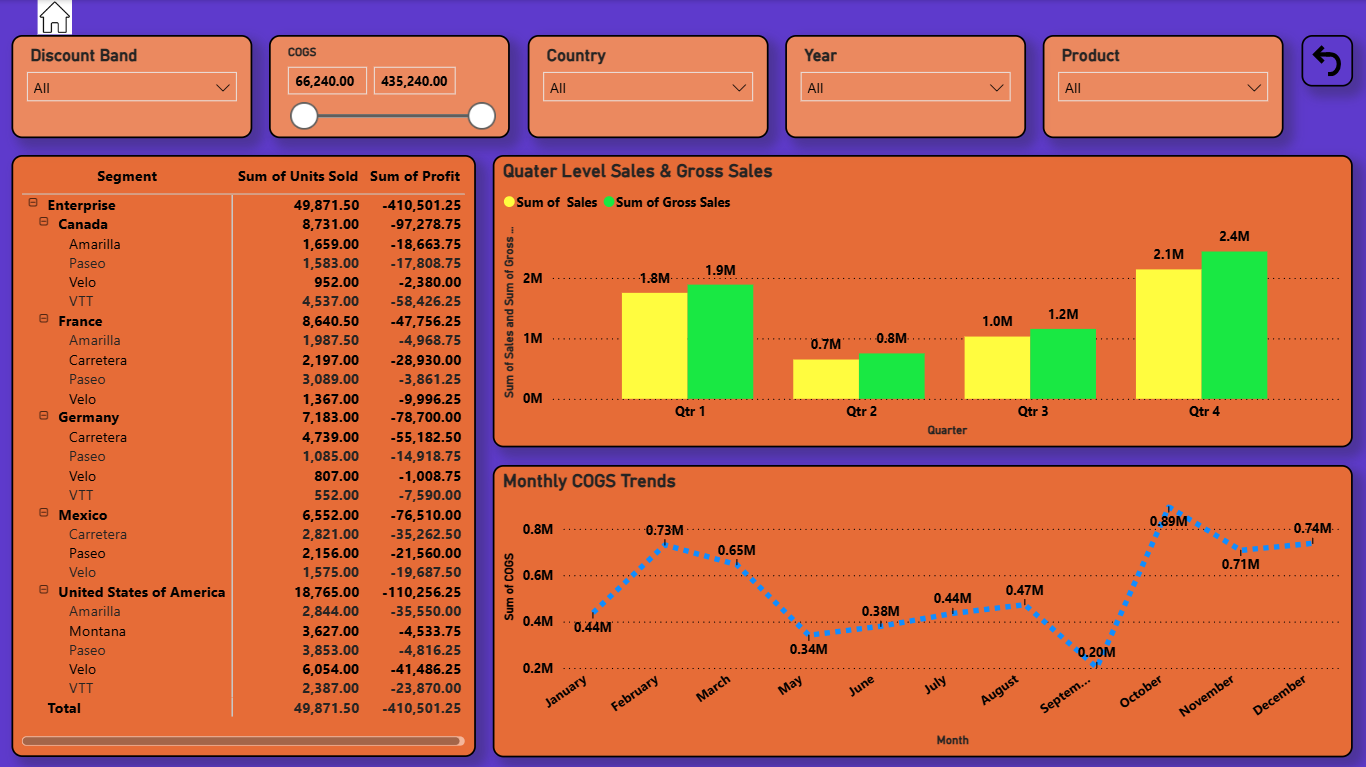

What the dashboard file says about the page in this screenshot:
{"tool":"powerbi","page":{"name":"Loss Report","canvas":[1280,720],"ordinal":6},"visuals":[{"type":"pivotTable","fields":{"Rows":["financials.Segment Hierarchy.Segment","financials.Segment Hierarchy.Country","financials.Segment Hierarchy.Product"],"Values":["Sum(financials.Units Sold)","Sum(financials.Profit)"]},"box":[16,144,432,560],"z":0},{"type":"clusteredColumnChart","title":"Quater Level Sales & Gross Sales","fields":{"Category":["financials.Date.Variation.Date Hierarchy.Quarter"],"Y":["Sum(financials. Sales)","Sum(financials.Gross Sales)"]},"box":[464,144,800,272],"z":1000},{"type":"lineChart","title":"Monthly COGS Trends","fields":{"Category":["financials.Date.Variation.Date Hierarchy.Month"],"Y":["Sum(financials.COGS)"]},"box":[464,432,800,272],"z":2000},{"type":"slicer","fields":{"Values":["financials.Discount Band"]},"box":[16,32,224,96],"z":3000},{"type":"slicer","fields":{"Values":["financials.COGS"]},"box":[256,32,224,96],"z":4000},{"type":"slicer","fields":{"Values":["financials.Country"]},"box":[496,32,224,96],"z":5000},{"type":"slicer","fields":{"Values":["financials.Product"]},"box":[976,32,224,96],"z":6000},{"type":"slicer","fields":{"Values":["financials.Date.Variation.Date Hierarchy.Year"]},"box":[736,32,224,96],"z":7000},{"type":"actionButton","box":[1216,32,48,48],"z":8000},{"type":"image","box":[32,0,48,32],"z":9000}]}

Visuals, with their boxes in screenshot pixels (x1, y1, x2, y2), scaled from the page's 1280x720 canvas onto the 1366x767 screenshot:
pivotTable - financials.Segment Hierarchy.Segment x financials.Segment Hierarchy.Country: (17,153,478,750)
"Quater Level Sales & Gross Sales" clusteredColumnChart: (495,153,1349,443)
"Monthly COGS Trends" lineChart: (495,460,1349,750)
slicer - financials.Discount Band: (17,34,256,136)
slicer - financials.COGS: (273,34,512,136)
slicer - financials.Country: (529,34,768,136)
slicer - financials.Product: (1042,34,1281,136)
slicer - financials.Date.Variation.Date Hierarchy.Year: (785,34,1024,136)
actionButton: (1298,34,1349,85)
image: (34,0,85,34)
